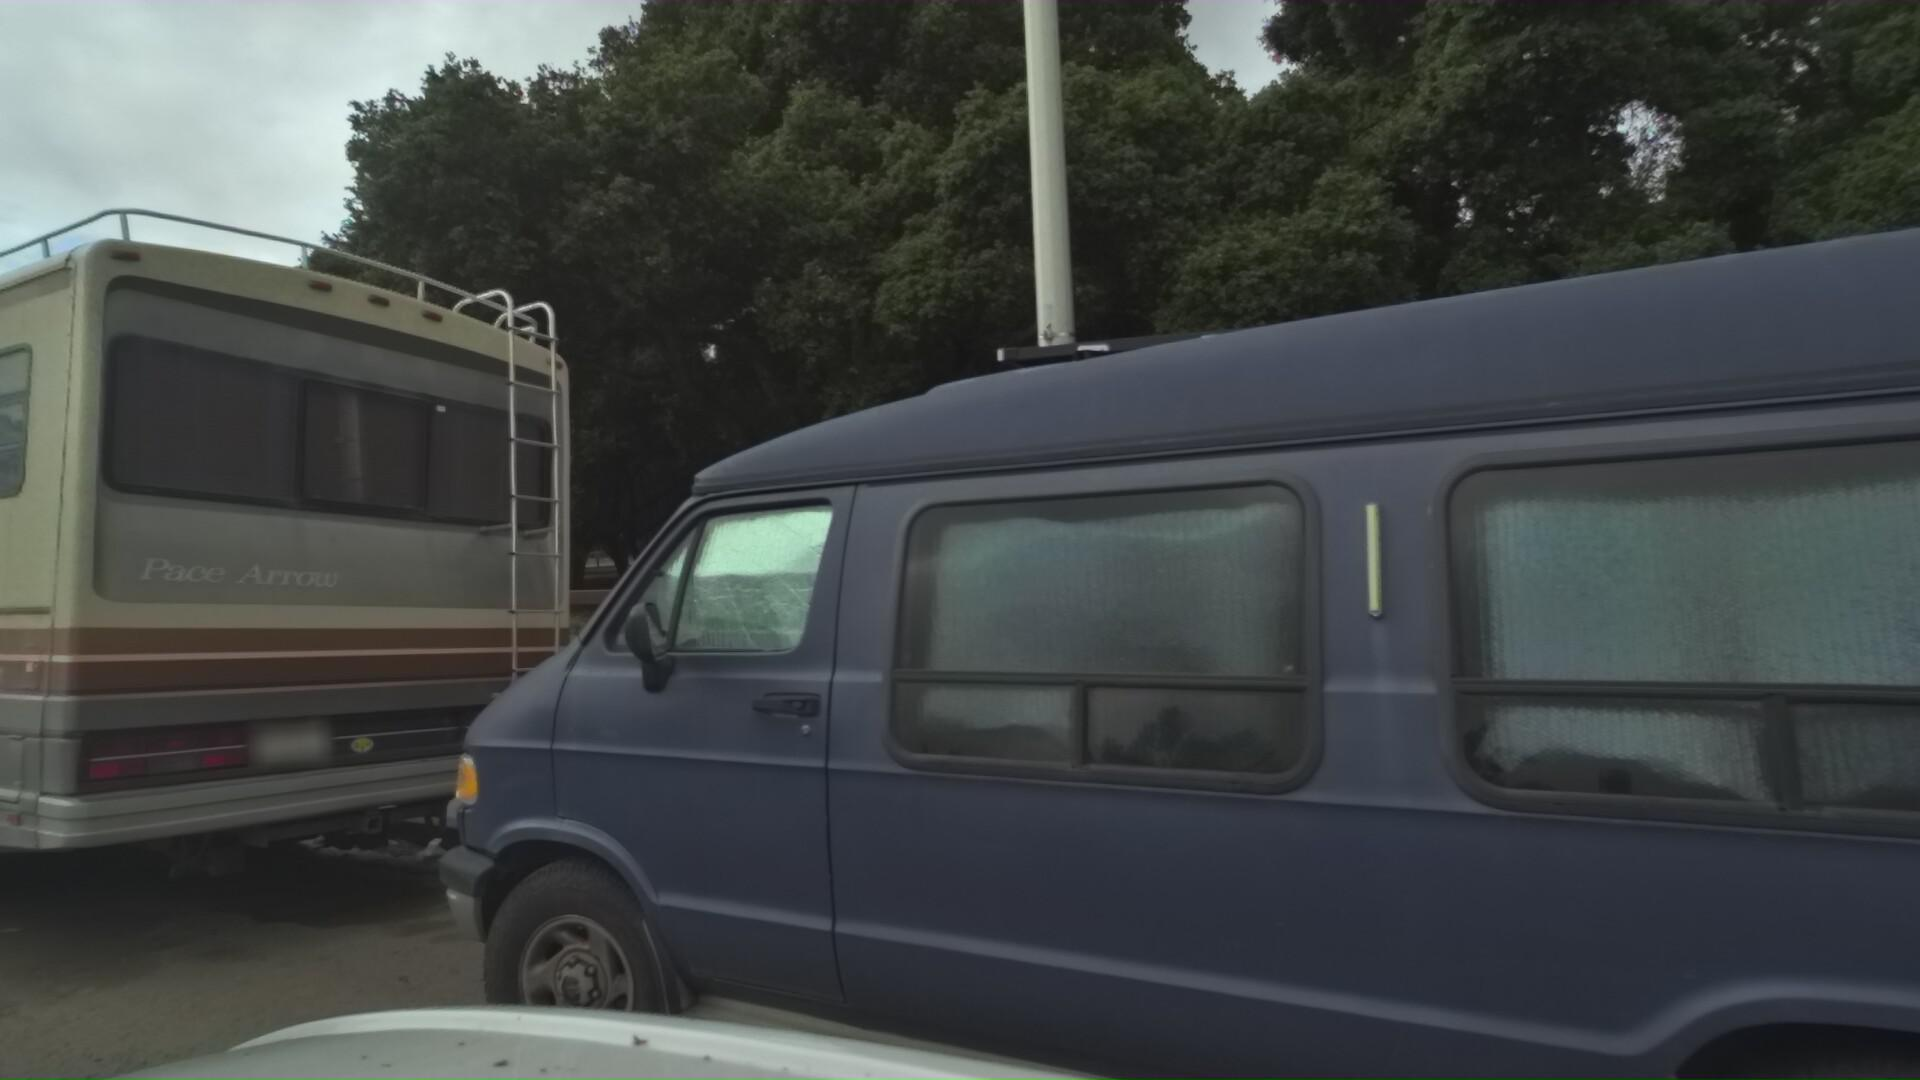car: (396, 0, 1920, 1080)
other_vehicle: (0, 98, 653, 1080)
